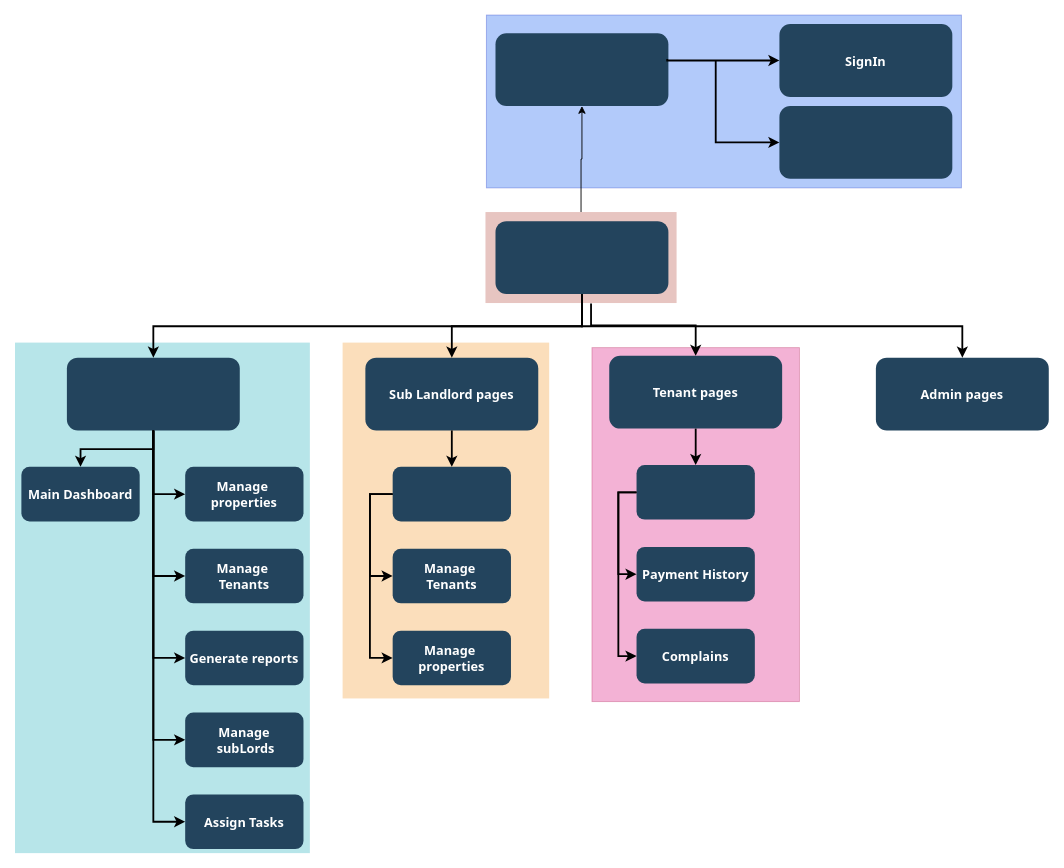
The diagram is 1064 pixels wide and 868 high, and some of its shapes have lost their labels. Each missing label, with the centre of its shape:
"AlugAE Home Page" goes at point (581, 257).
"Assignes tasks" goes at point (451, 493).
"Authentication Pages" goes at point (581, 69).
"Landlord pages" goes at point (152, 393).
"Property Hub" goes at point (695, 492).
"SignUp" goes at point (865, 142).
